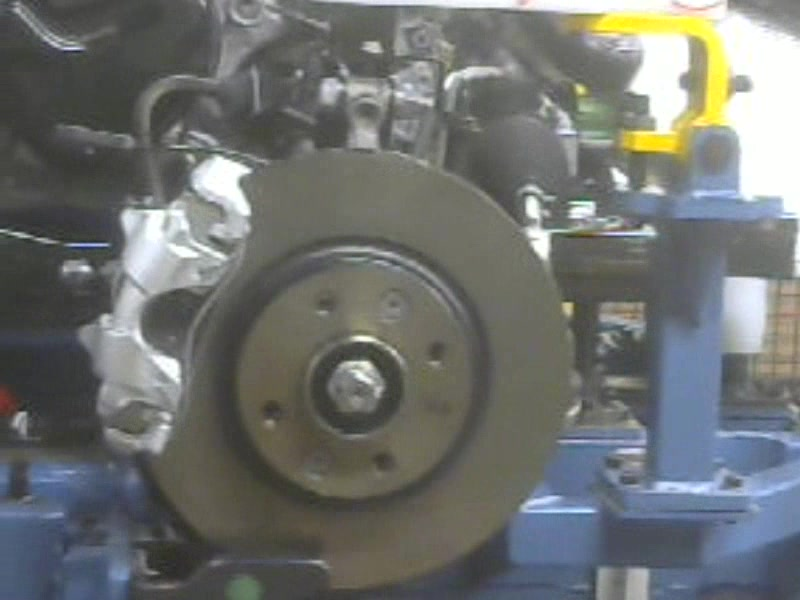DD2: (252, 144, 573, 599)
P2: (76, 150, 261, 463)
